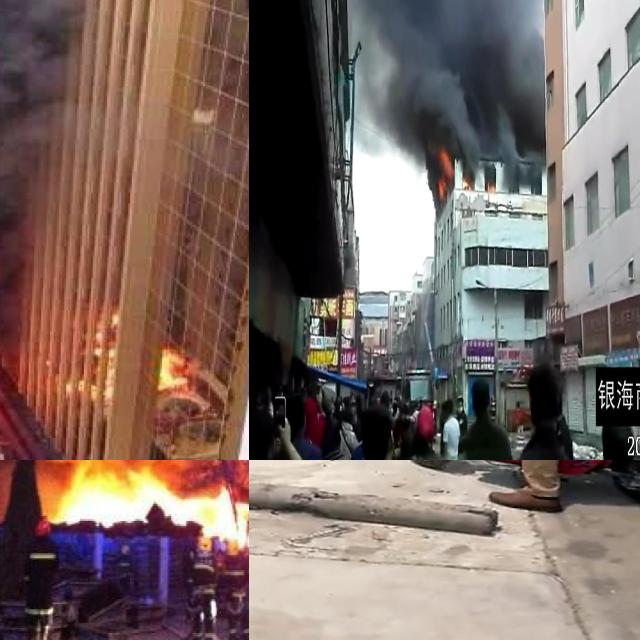fire: (49, 460, 249, 550), (150, 342, 192, 391), (436, 147, 453, 198)
smoke: (353, 0, 539, 142), (0, 0, 83, 279)
